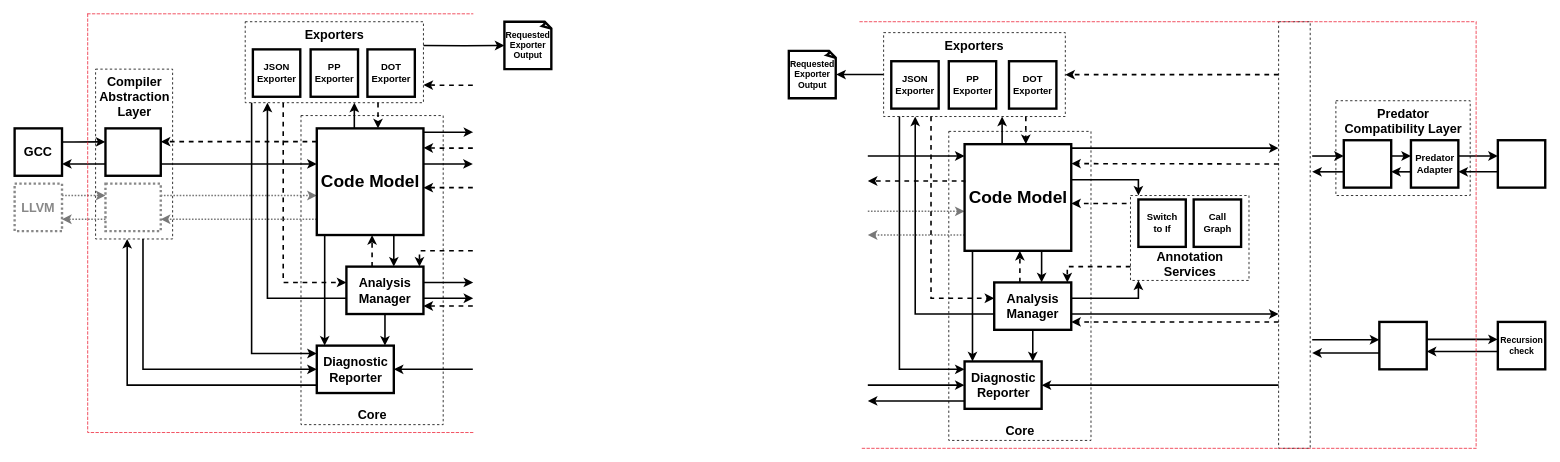
This 1560x462 diagram has some shape labels left out. The centre of each missing label's shape, as x and y in pixels:
"GCC Adapter" belongs at [133,152].
"Legacy Predator Bridge" belongs at [1367,163].
"LLVM Adapter" belongs at [133,207].
"Native Analyzer Bridge" belongs at [1403,345].
"Predator" belongs at [1521,163].
"Public API" belongs at [1294,234].
